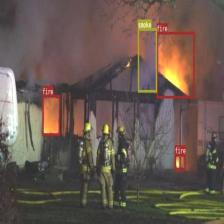fire: (156, 31, 195, 97), (42, 94, 60, 136), (174, 154, 186, 170)
smoke: (138, 28, 156, 92)
